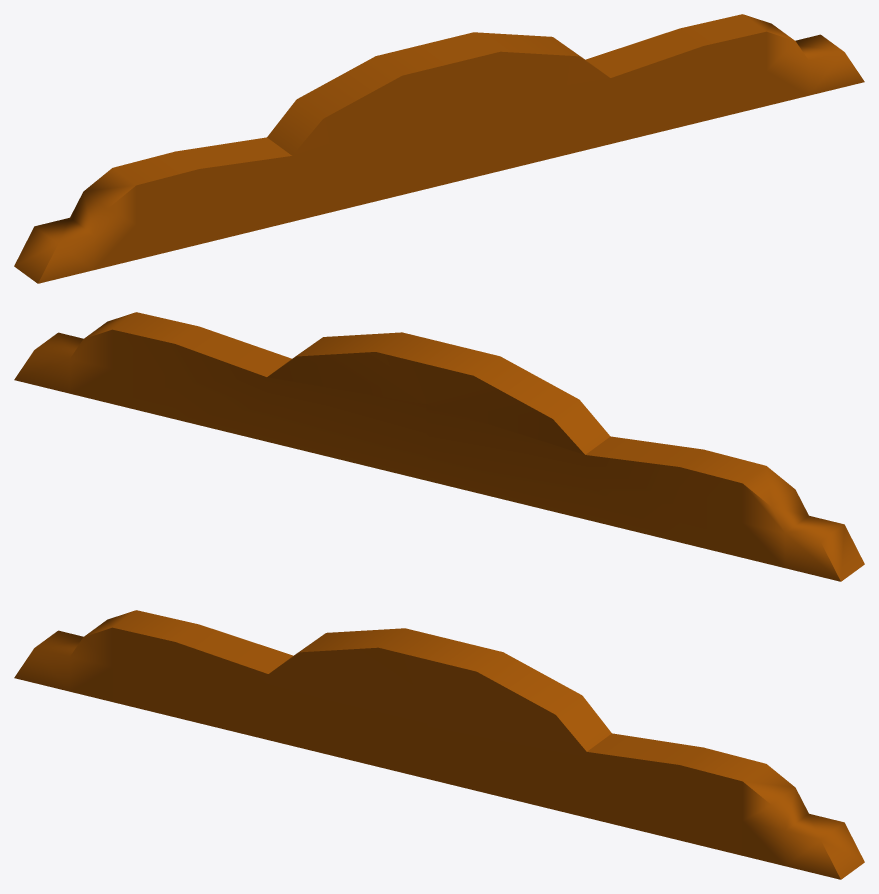
File: Furniture_Ornamentation.fbx
3 views of the same model, one above another, from view 1: azimuth 30°, elevation 25°; view 2: azimuth 150°, elevation 25°; view 3: azimuth 330°, elevation 25° (orthographic).
Parts seen in each view (by area): view 1: Furniture_Ornamentation; view 2: Furniture_Ornamentation; view 3: Furniture_Ornamentation.
Boxes of the visible parts, x1,y1,x2,y2 form: Furniture_Ornamentation: (14,14,864,283); Furniture_Ornamentation: (14,312,864,581); Furniture_Ornamentation: (14,610,864,879).
Bounding box in the file's own units: 217 × 29.93 × 12.17.
